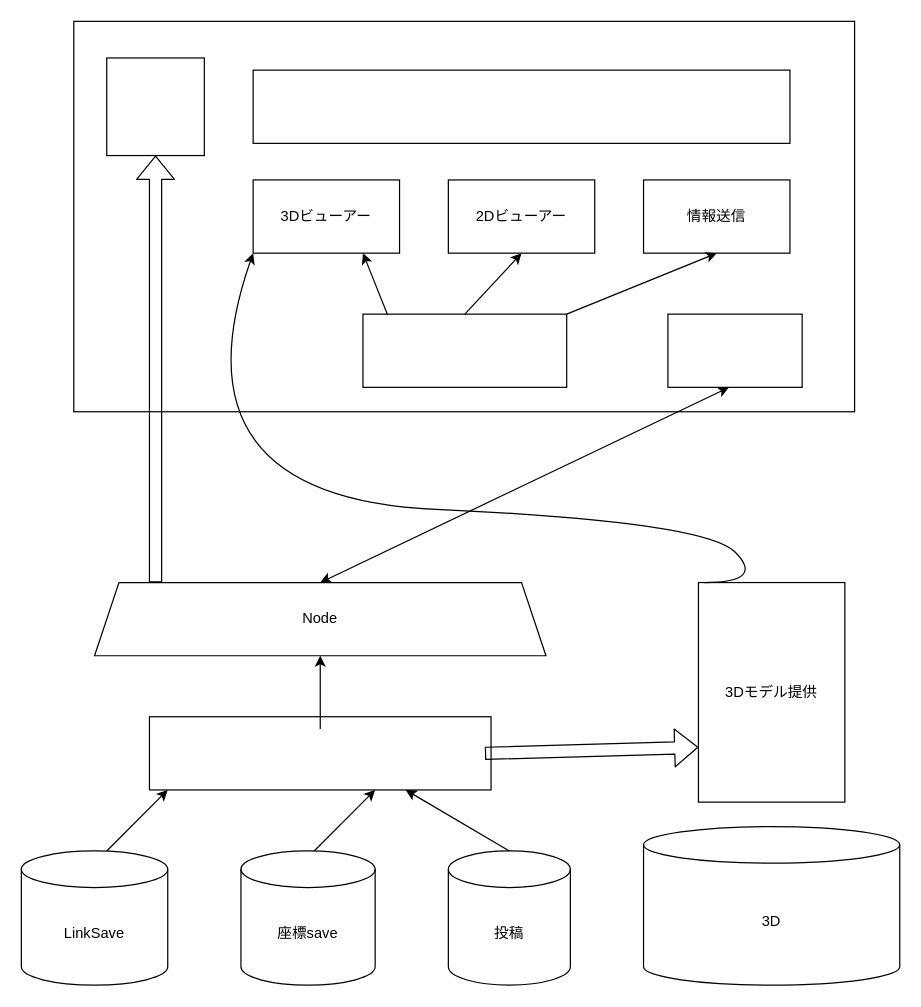
Some shapes in this 921 by 1007 pixel diagram are drawn without their labels. Each missing label, with the centre of its shape:
"制御" belongs at (319,753).
"環境保存" belongs at (155,106).
"表示システム(常時稼働)" belongs at (464,350).
"設定" belongs at (521,106).
"通信システム" belongs at (734,350).
